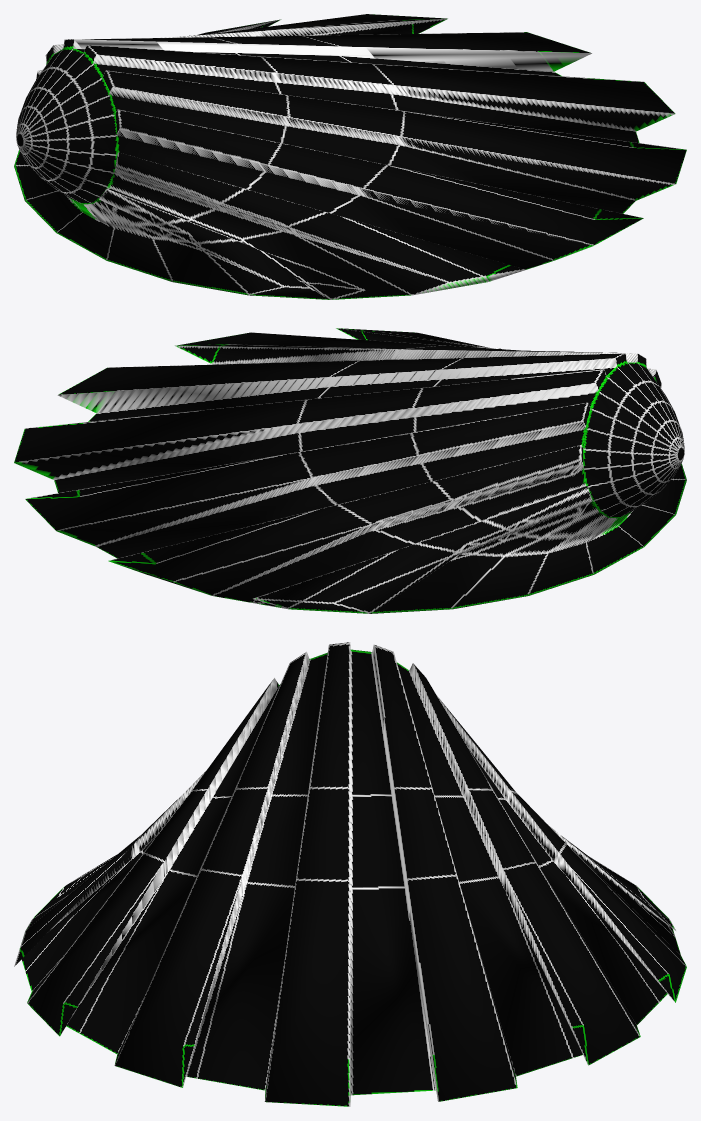
File: Shell.fbx
The picture shows the model from 3 angles, top to bottom: view 1: azimuth 30°, elevation 25°; view 2: azimuth 150°, elevation 25°; view 3: azimuth 270°, elevation 25°; orthographic projection. The views are drawn at different scales.
Parts seen in each view (by area): view 1: Seashell; view 2: Seashell; view 3: Seashell.
Part boxes in pixels (bbox=[...]): Seashell: bbox=[14, 14, 686, 299]; Seashell: bbox=[14, 328, 686, 613]; Seashell: bbox=[14, 642, 686, 1106].
Size of the model in its own units: 45.57 by 12.63 by 40.74.
